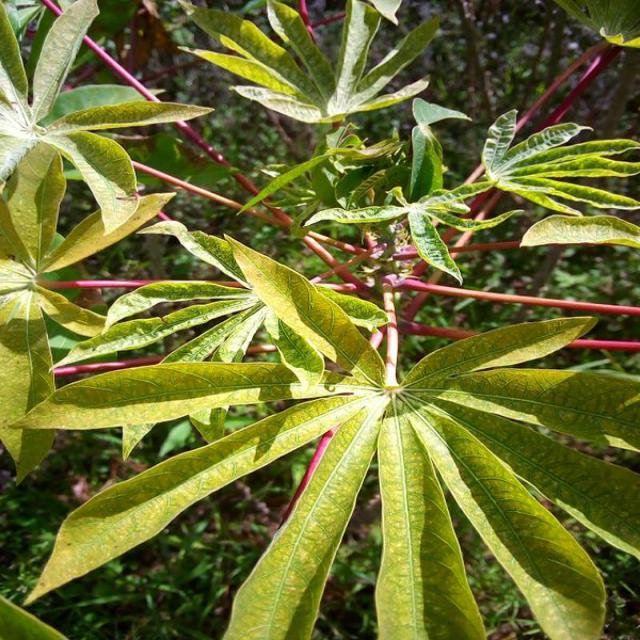cassava leaf: (19, 226, 638, 638)
